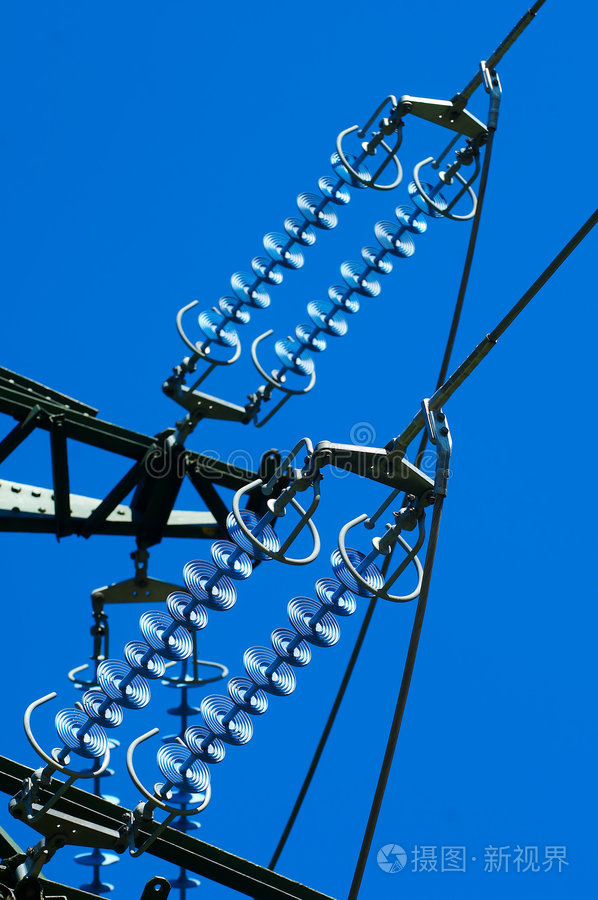insulator: (52, 506, 276, 761), (160, 547, 381, 792), (194, 150, 372, 345), (274, 185, 448, 373)
